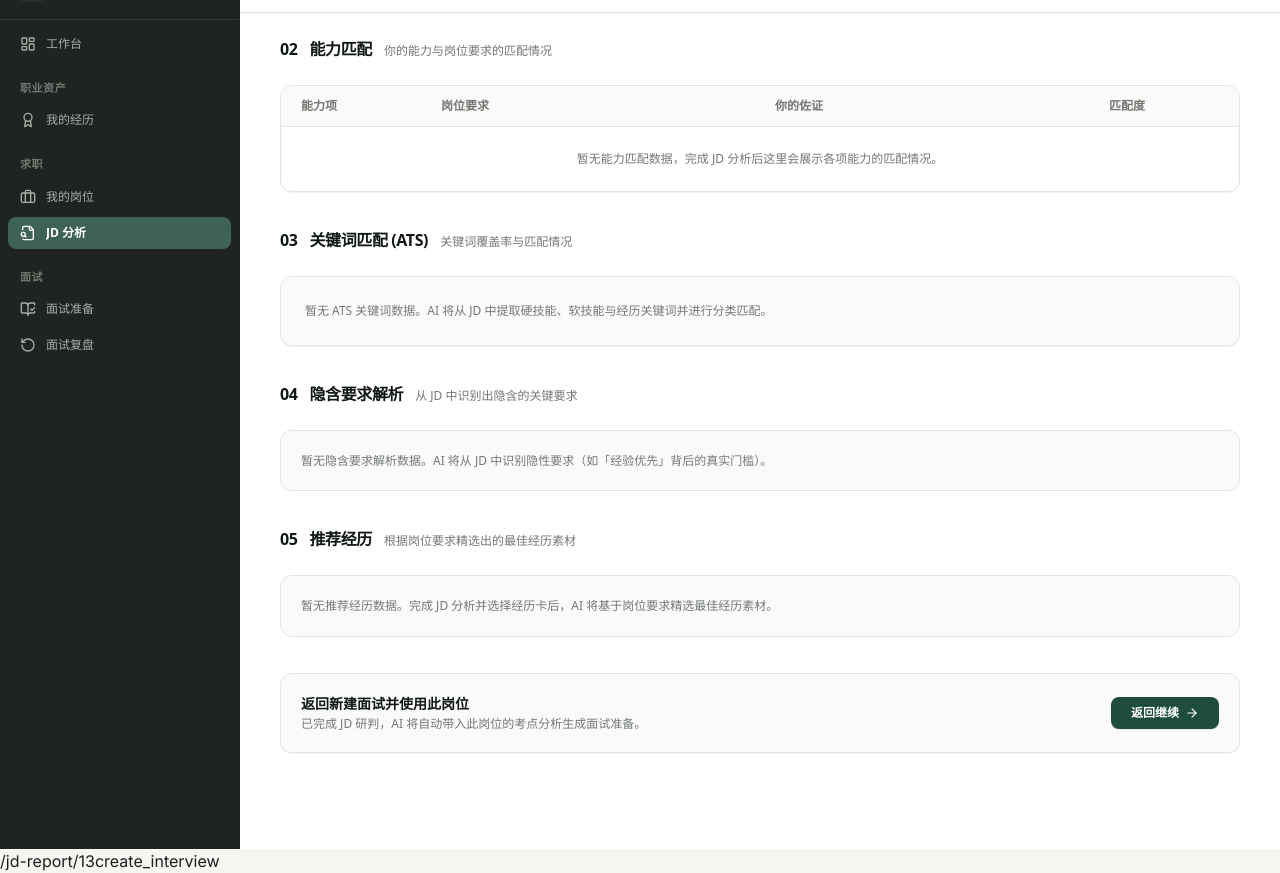
Scenario: T-M7-1 JD 报告回流改开 Modal（/interview/new 页面已删） › 点「返回继续」打开新建面试 Modal，URL 不再跳 /interview/new
(page scrolled)
Click the button "返回继续".
click(1165, 713)  # box [1111,697,1219,729]
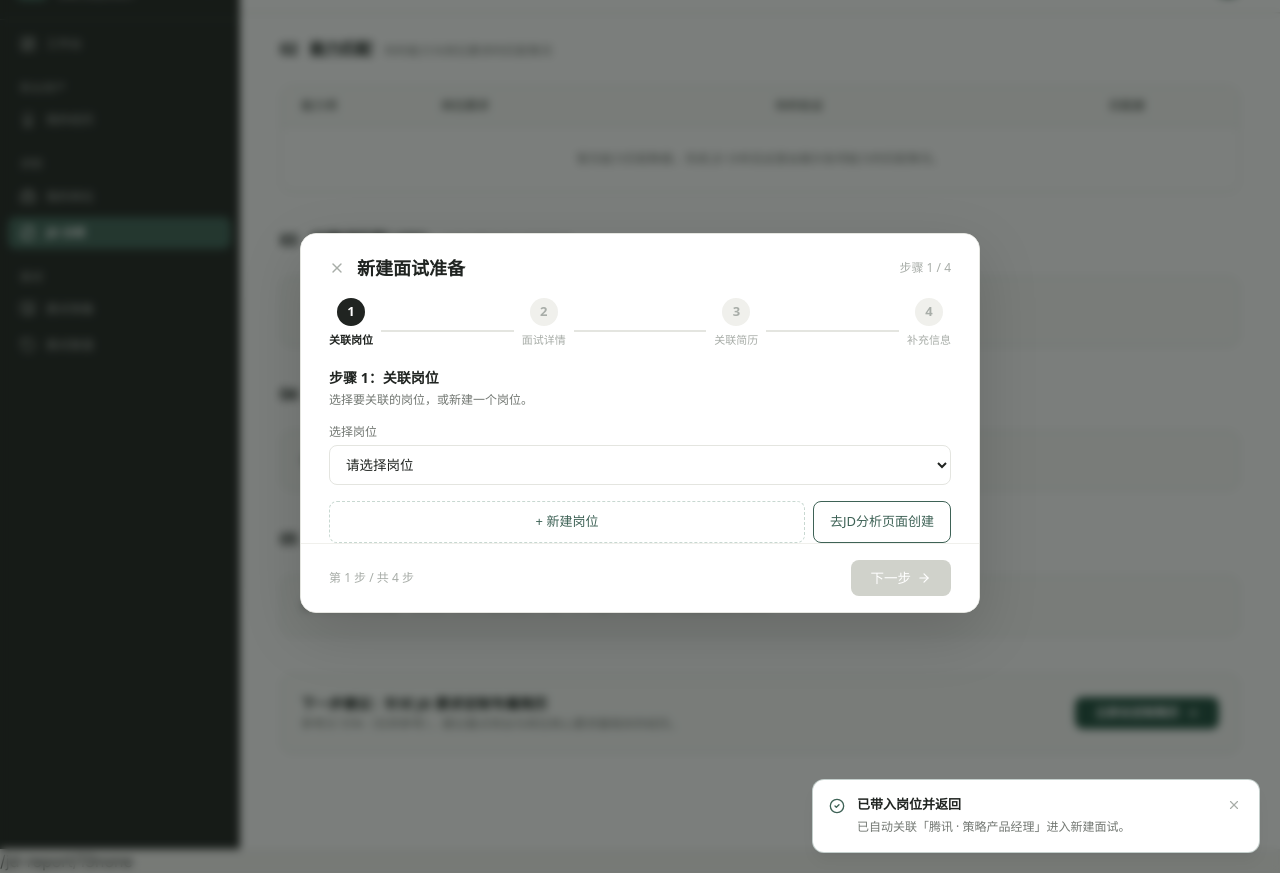
Now the heading "新建面试准备" is shown, box [357,254,465,282]
Now the text with test id "target" reads "none", box [95,851,133,871]
